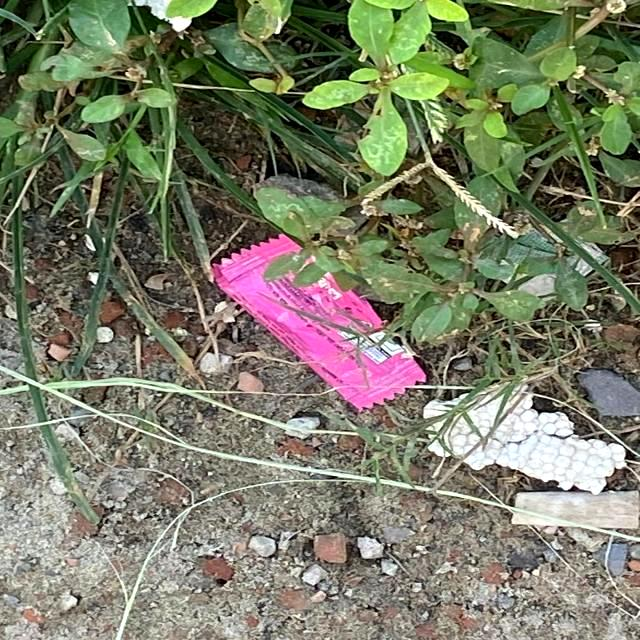packet: (209, 237, 425, 404)
